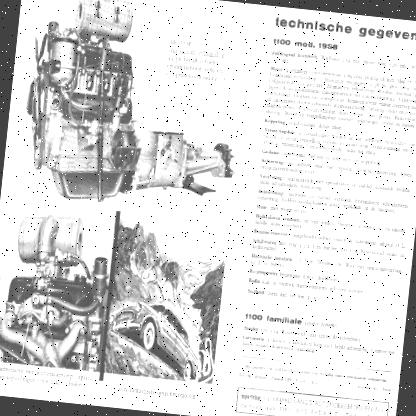Car: (102, 300, 204, 382)
